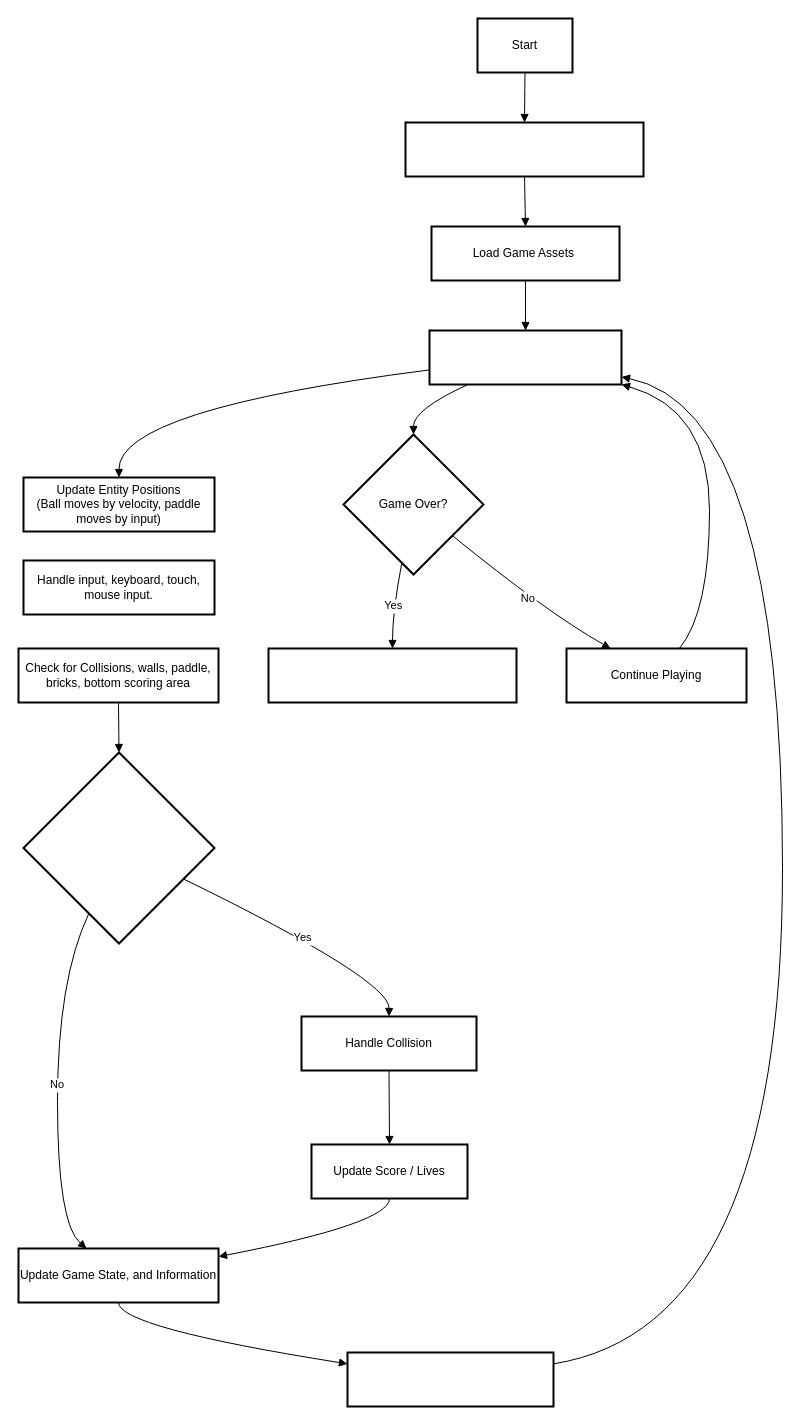
Some shapes in this 800 by 1424 pixel diagram are drawn without their labels. The shapes that lost their labels are listed below. From the top down, each one's box as (x1, y1, x2, y2) in pixels, then its label:
(404, 121, 644, 177): Initialize Game Variables
(428, 329, 622, 385): Set Up Game Loop
(267, 647, 517, 703): Display Game Over Screen
(22, 751, 215, 944): Collision Detected?
(346, 1351, 554, 1407): Render Game Frame
